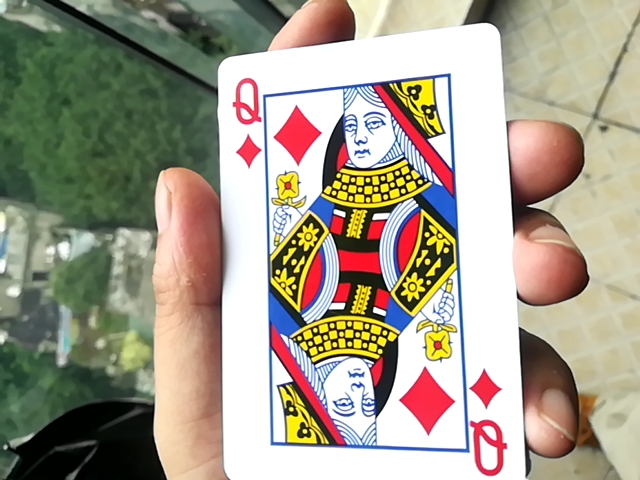fk q: (202, 28, 535, 480)
